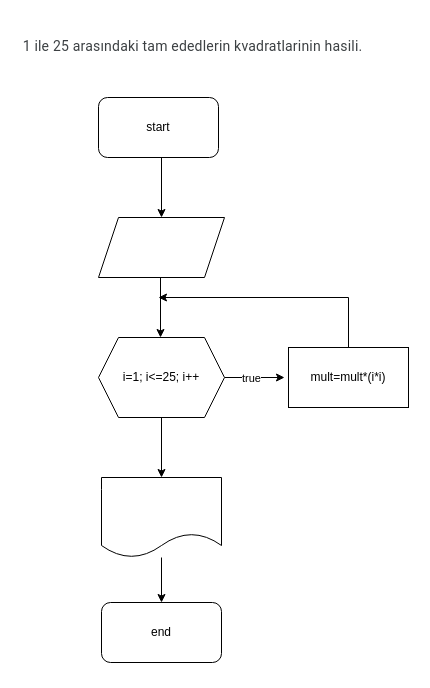
This 430x688 diagram has some shape labels left out. The centre of each missing label's shape, as x and y in pixels:
mult: pixel 161 517
mult=1: pixel 161 247
